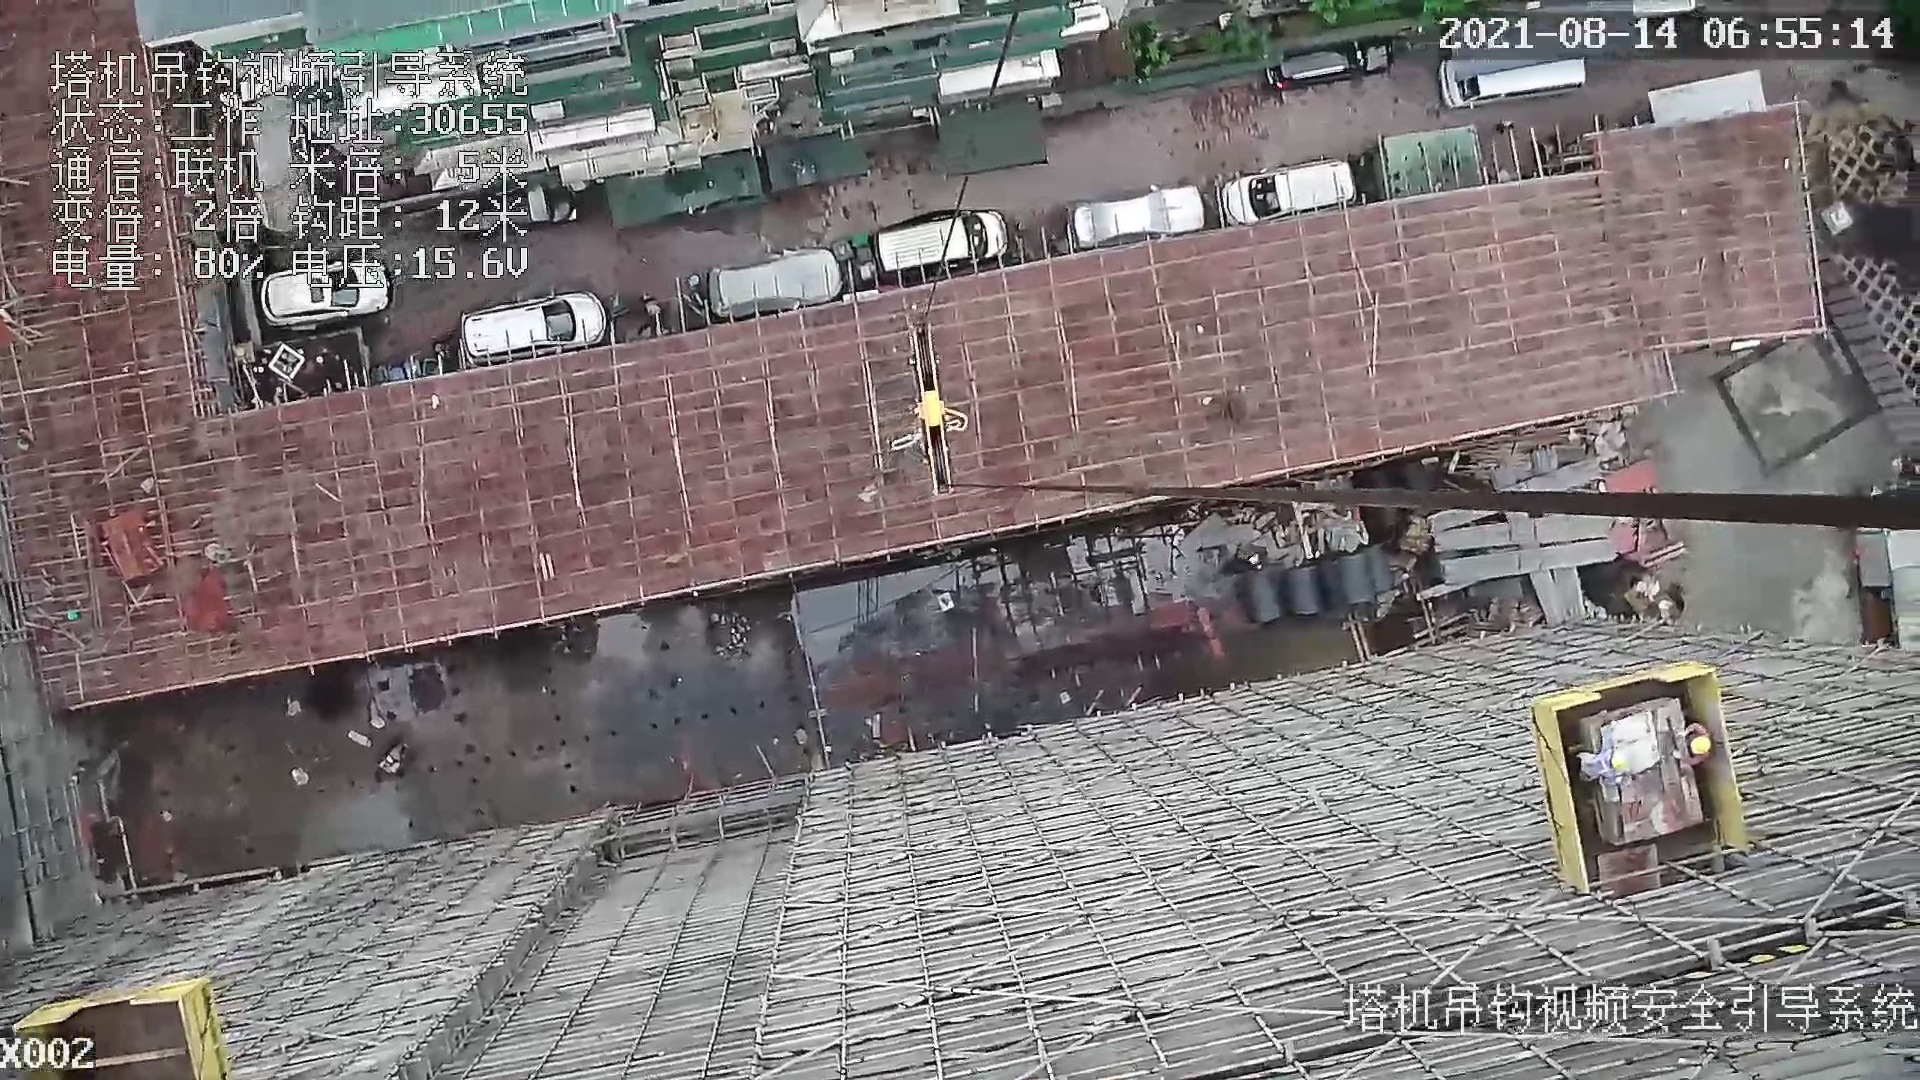board: (1575, 699, 1706, 851)
helmet: (1690, 737, 1712, 754), (1611, 751, 1628, 768)
hook: (905, 313, 968, 499)
person: (1576, 744, 1635, 786), (1674, 714, 1713, 769)
rebar: (1437, 539, 1618, 586), (1433, 516, 1612, 553), (1506, 458, 1600, 490), (1518, 570, 1566, 623), (1553, 570, 1586, 619)
